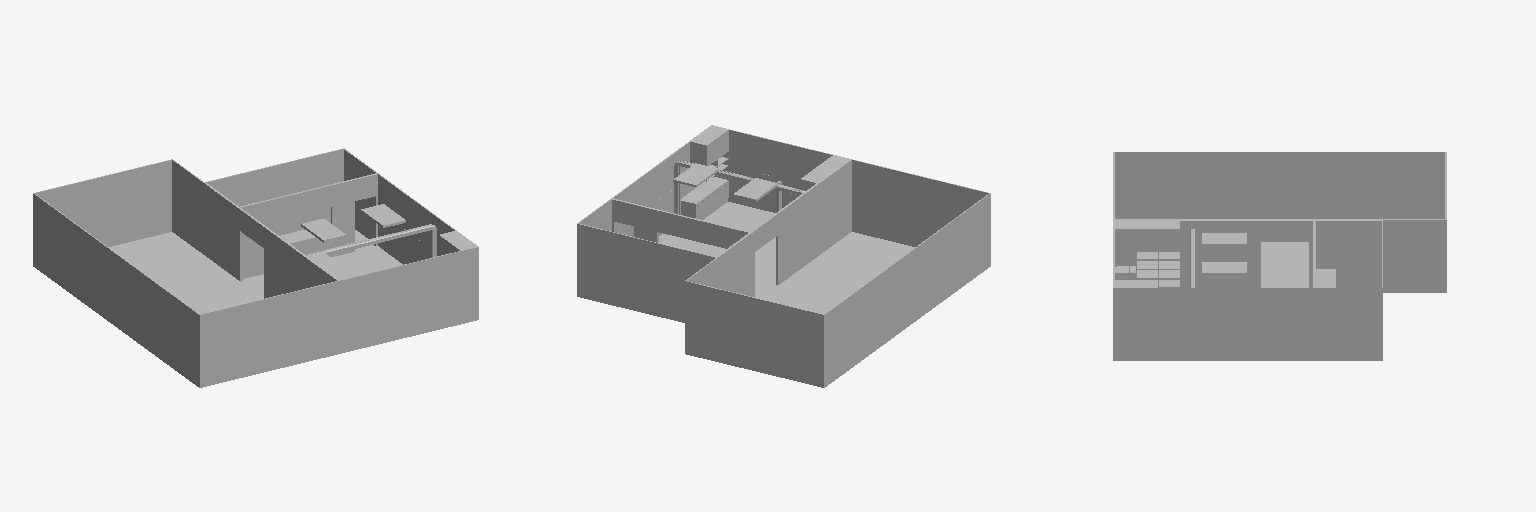
File: CT Sim Room_cut.obj
3 views of the same model, side by side, from view 1: azimuth 30°, elevation 25°; view 2: azimuth 150°, elevation 25°; view 3: azimuth 270°, elevation 25° (orthographic).
Visible parts, largest first — view 1: Room2_cut, Room1_cut, Room3_cut, WLWA_020, MMRA_014, LIFX_038_2, LIFX_038_1, FIJO_212_2, FIJO_212_1; view 2: Room2_cut, Room3_cut, Room1_cut, WLWA_020, FIJO_212_2, MMRA_014, FIJO_212_1, LIFX_038_1, LIFX_038_2, pCube1; view 3: Room2_cut, Room1_cut, Room3_cut, WLWA_020, FIJO_212_1, FIJO_166_2, FIJO_167, FIJO_166_1, LIFX_038_2, LIFX_038_1.
Part boxes in pixels (bbox=[...]): Room2_cut: bbox=[33, 159, 338, 387]; Room1_cut: bbox=[239, 173, 478, 353]; Room3_cut: bbox=[205, 148, 377, 250]; WLWA_020: bbox=[243, 216, 438, 278]; MMRA_014: bbox=[306, 224, 436, 257]; LIFX_038_2: bbox=[301, 219, 346, 242]; LIFX_038_1: bbox=[361, 204, 405, 227]; FIJO_212_2: bbox=[439, 231, 476, 255]; FIJO_212_1: bbox=[307, 252, 354, 279]; Room2_cut: bbox=[685, 159, 990, 387]; Room3_cut: bbox=[577, 199, 749, 322]; Room1_cut: bbox=[611, 125, 850, 297]; WLWA_020: bbox=[615, 166, 799, 236]; FIJO_212_2: bbox=[690, 126, 728, 165]; MMRA_014: bbox=[674, 160, 804, 214]; FIJO_212_1: bbox=[800, 155, 848, 190]; LIFX_038_1: bbox=[673, 163, 718, 187]; LIFX_038_2: bbox=[733, 178, 777, 201]; pCube1: bbox=[681, 177, 728, 203]; Room2_cut: bbox=[1113, 152, 1446, 292]; Room1_cut: bbox=[1113, 220, 1313, 360]; Room3_cut: bbox=[1314, 220, 1382, 360]; WLWA_020: bbox=[1180, 257, 1312, 287]; FIJO_212_1: bbox=[1115, 221, 1179, 249]; FIJO_166_2: bbox=[1158, 250, 1179, 287]; FIJO_167: bbox=[1115, 250, 1136, 279]; FIJO_166_1: bbox=[1137, 250, 1157, 279]; LIFX_038_2: bbox=[1202, 233, 1246, 245]; LIFX_038_1: bbox=[1202, 262, 1246, 274].
Size of the model in its own units: 122 by 31 by 126.